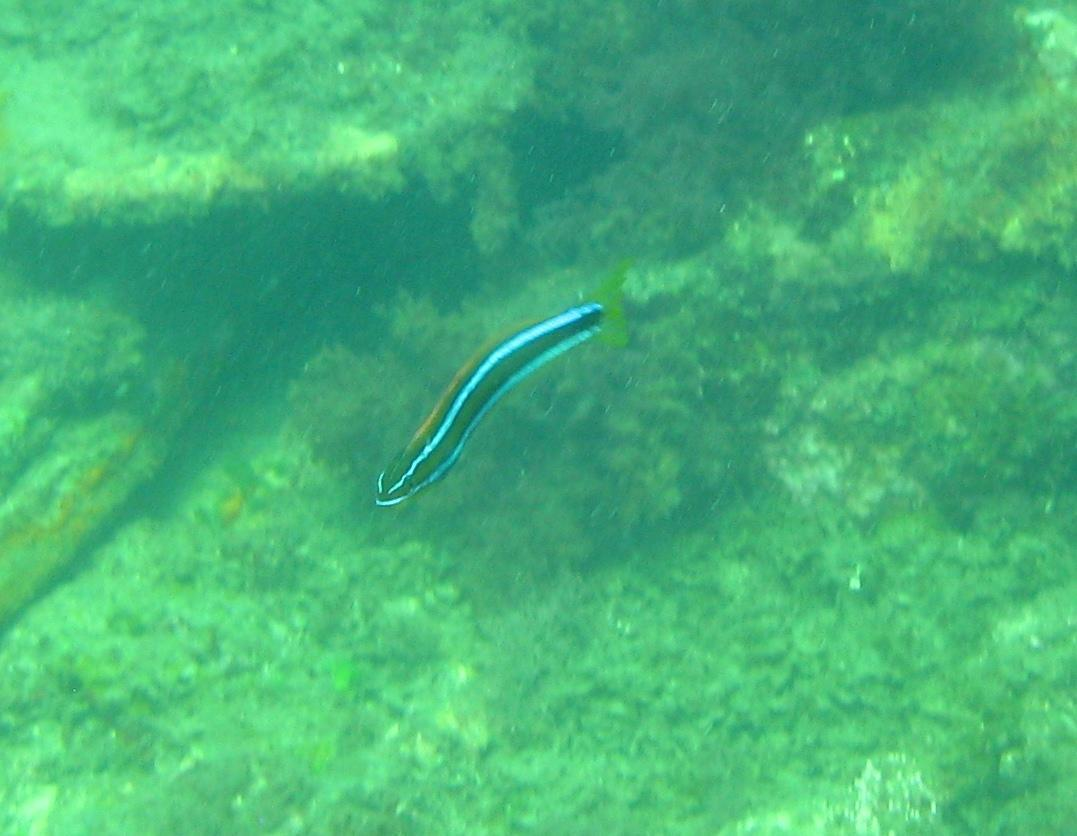Fish: (322, 236, 740, 528)
